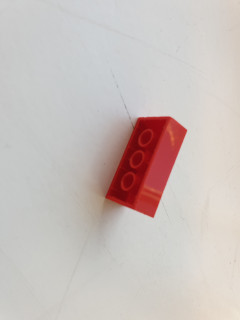2x4 red: (103, 115, 190, 220)
